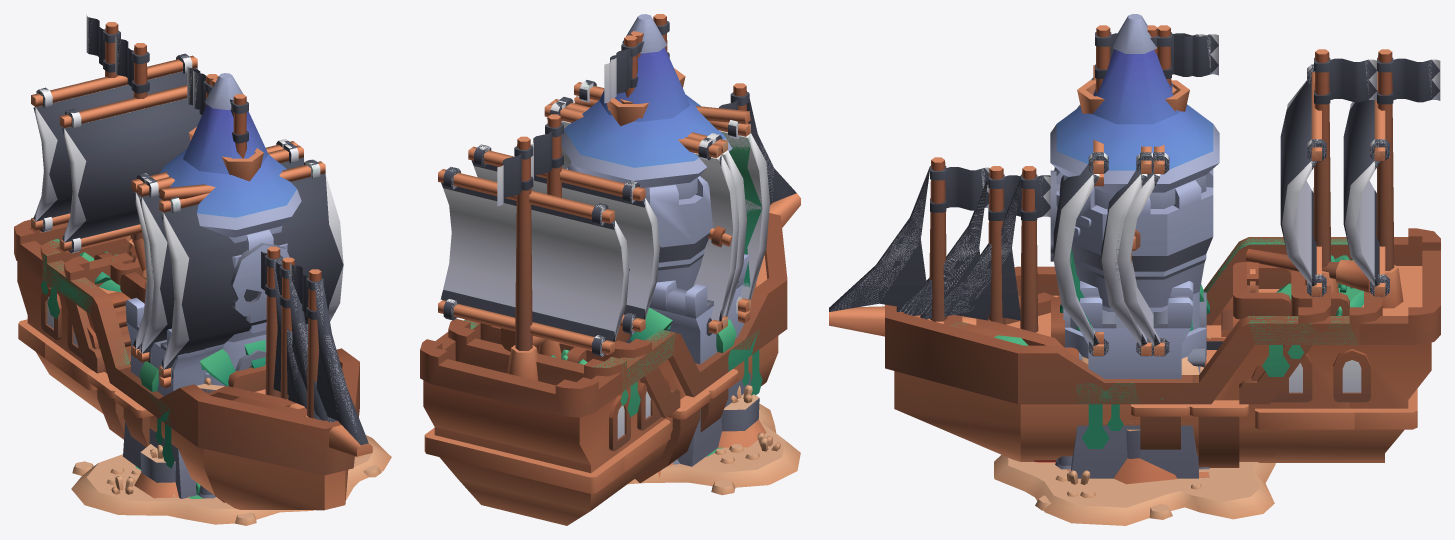
Rendered from pirate.glb.
The picture shows the model from 3 angles, left to right: view 1: azimuth 30°, elevation 25°; view 2: azimuth 150°, elevation 25°; view 3: azimuth 270°, elevation 25°; orthographic projection. The views are drawn at different scales.
Parts seen in each view (by area): view 1: ship-pirate-large, sail-a (×7), sail-b (×4), ship-pirate-medium, pir_tower_large, pir_patch_sand_foliage, ship-pirate-small, pir_castle_gate, flag-c (×3), ship-ghost, pir_tower_small, ship-wreck (+4 smaller); view 2: ship-pirate-large, sail-b (×4), sail-a (×7), pir_tower_large, ship-pirate-medium, pir_patch_sand_foliage, pir_castle_gate, pir_tower_small, ship-pirate-small, ship-wreck, flag-c (×2), ship-ghost (+4 smaller); view 3: ship-pirate-large, ship-pirate-medium, pir_tower_large, sail-b (×4), ship-pirate-small, sail-a (×6), pir_patch_sand_foliage, pir_castle_gate, pir_tower_small, flag-c (×4), ship-wreck, ship-ghost (+7 smaller).
Part boxes in pixels (x1=…): ship-pirate-large: x1=14, y1=22, x2=372, y2=510; sail-a (×7): x1=131, y1=139, x2=343, y2=388; sail-b (×4): x1=31, y1=53, x2=201, y2=253; ship-pirate-medium: x1=40, y1=43, x2=337, y2=447; pir_tower_large: x1=160, y1=73, x2=301, y2=370; pir_patch_sand_foliage: x1=71, y1=435, x2=391, y2=525; ship-pirate-small: x1=64, y1=74, x2=321, y2=420; pir_castle_gate: x1=123, y1=298, x2=307, y2=498; flag-c (×3): x1=88, y1=17, x2=324, y2=319; ship-ghost: x1=41, y1=254, x2=174, y2=468; pir_tower_small: x1=204, y1=230, x2=287, y2=386; ship-wreck: x1=42, y1=152, x2=315, y2=418; ship-pirate-large: x1=420, y1=31, x2=800, y2=525; sail-b (×4): x1=438, y1=144, x2=660, y2=356; sail-a (×7): x1=544, y1=80, x2=769, y2=335; pir_tower_large: x1=561, y1=14, x2=732, y2=343; ship-pirate-medium: x1=448, y1=14, x2=759, y2=472; pir_patch_sand_foliage: x1=628, y1=403, x2=800, y2=495; pir_castle_gate: x1=649, y1=254, x2=751, y2=466; pir_tower_small: x1=566, y1=163, x2=712, y2=290; ship-pirate-small: x1=480, y1=35, x2=738, y2=438; ship-wreck: x1=449, y1=16, x2=759, y2=458; flag-c (×2): x1=503, y1=123, x2=563, y2=198; ship-ghost: x1=463, y1=320, x2=762, y2=416; ship-pirate-large: x1=829, y1=25, x2=1440, y2=467; ship-pirate-medium: x1=896, y1=25, x2=1382, y2=449; pir_tower_large: x1=1050, y1=14, x2=1219, y2=355; sail-b (×4): x1=1280, y1=64, x2=1389, y2=296; ship-pirate-small: x1=920, y1=25, x2=1330, y2=457; sail-a (×6): x1=1050, y1=78, x2=1169, y2=356; pir_patch_sand_foliage: x1=994, y1=455, x2=1275, y2=525; pir_castle_gate: x1=1055, y1=282, x2=1209, y2=478; pir_tower_small: x1=1056, y1=169, x2=1213, y2=358; flag-c (×4): x1=930, y1=33, x2=1439, y2=212; ship-wreck: x1=916, y1=30, x2=1382, y2=449; ship-ghost: x1=949, y1=316, x2=1358, y2=448.
Size of the model in its own units: 7.74 by 10.56 by 13.1.
Materials: 4 (3 with a texture image).
